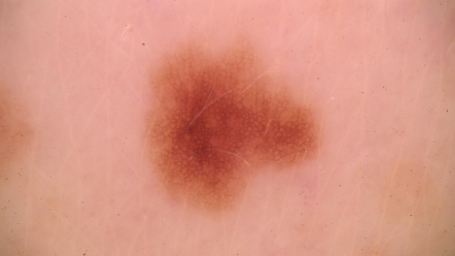melanoma: (149, 45, 322, 211)
